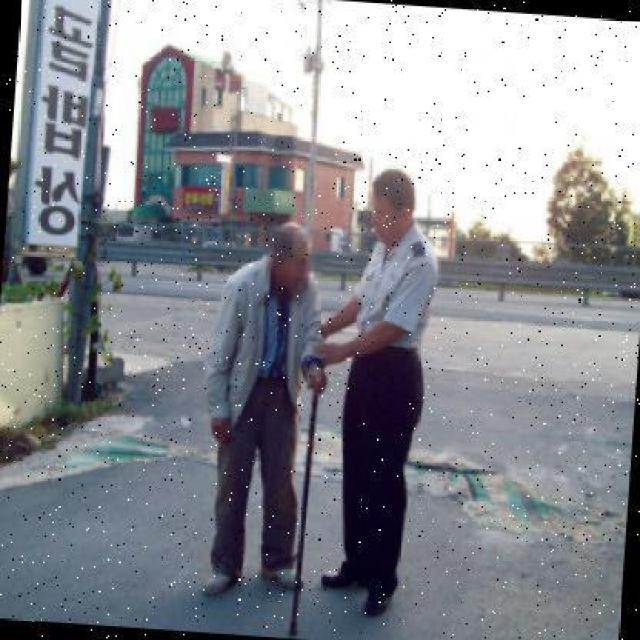Person: (186, 214, 336, 638), (304, 166, 438, 617)
